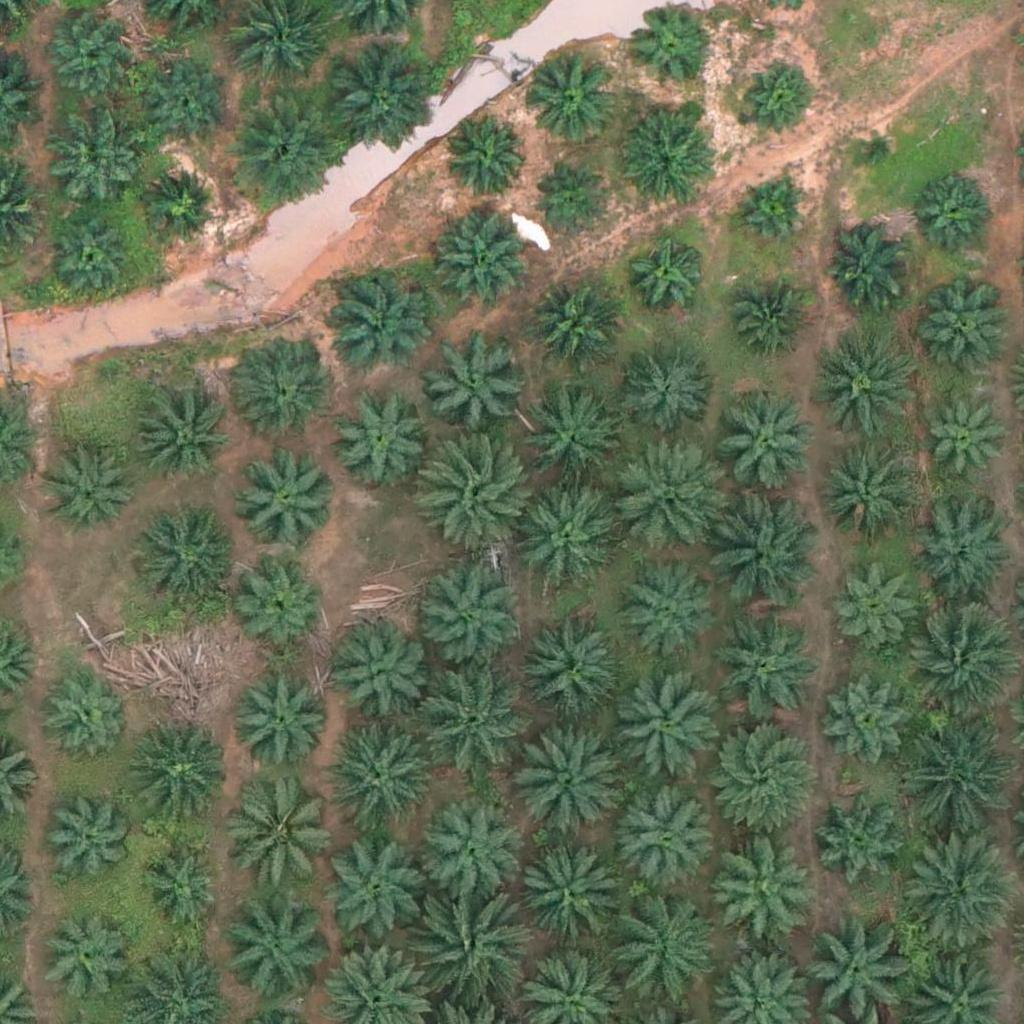Kelapa_Sawit: (609, 437, 722, 551), (228, 101, 341, 214), (411, 894, 524, 1007), (218, 895, 331, 1008), (701, 715, 814, 828), (608, 672, 721, 785), (319, 716, 432, 829), (902, 598, 1014, 712), (899, 716, 1011, 830), (706, 493, 818, 607), (321, 45, 433, 158), (900, 839, 1012, 952), (610, 893, 722, 1006), (514, 721, 626, 834), (418, 666, 530, 779), (412, 556, 524, 669), (419, 436, 531, 549), (228, 779, 340, 892), (41, 116, 141, 217), (613, 115, 713, 216), (916, 282, 1016, 383), (714, 395, 814, 496), (426, 332, 526, 433), (324, 271, 424, 372), (232, 336, 332, 437), (132, 385, 232, 486), (911, 506, 1011, 607), (808, 786, 908, 887), (707, 836, 807, 937), (616, 785, 716, 886), (615, 556, 715, 657), (514, 486, 614, 587), (518, 619, 618, 720), (513, 847, 613, 948), (422, 802, 522, 903), (329, 623, 429, 724), (322, 837, 422, 938), (234, 671, 334, 772), (237, 446, 337, 547), (133, 506, 233, 607), (814, 337, 914, 437), (429, 218, 529, 318), (328, 387, 428, 487), (821, 667, 921, 767), (817, 441, 917, 541), (712, 618, 812, 718), (617, 338, 717, 438), (524, 393, 624, 493), (128, 725, 228, 825), (137, 161, 225, 249), (919, 402, 1007, 490), (825, 220, 913, 308), (37, 917, 125, 1005), (833, 562, 921, 650), (137, 838, 225, 926), (47, 448, 135, 536), (48, 12, 135, 100), (50, 216, 137, 304), (143, 57, 230, 145), (630, 3, 717, 91), (529, 283, 616, 371), (725, 284, 812, 372), (909, 161, 996, 249), (524, 52, 611, 140), (442, 115, 529, 203), (237, 558, 324, 646), (44, 792, 131, 880), (41, 669, 128, 757), (627, 237, 702, 313), (733, 177, 808, 253), (739, 60, 814, 136), (537, 168, 612, 243), (850, 121, 900, 171)
